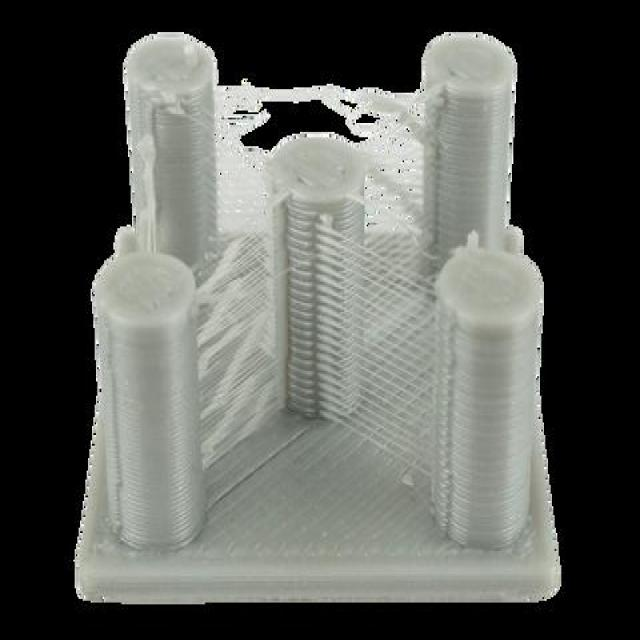Stringing: (183, 62, 449, 508)
